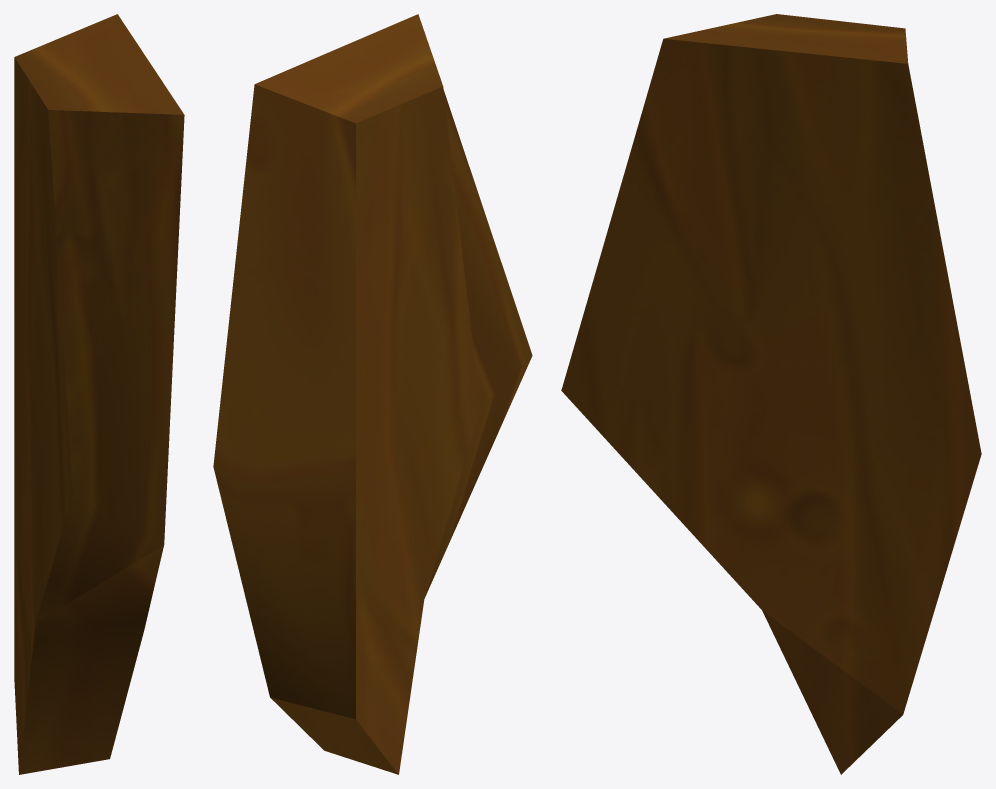
File: p_mesh_hvs_spruce_small_part_02.fbx
3 views of the same model, side by side, from view 1: azimuth 30°, elevation 25°; view 2: azimuth 150°, elevation 25°; view 3: azimuth 270°, elevation 25° (orthographic). The views are drawn at different scales.
Parts seen in each view (by area): view 1: p_hvs_spruce_small_part_02; view 2: p_hvs_spruce_small_part_02; view 3: p_hvs_spruce_small_part_02.
Boxes of the visible parts, x1,y1,x2,y2 form: p_hvs_spruce_small_part_02: (14, 14, 184, 774); p_hvs_spruce_small_part_02: (213, 14, 532, 774); p_hvs_spruce_small_part_02: (561, 14, 981, 774).
Bounding box in the file's own units: 0.5245 × 2.41 × 1.26.
